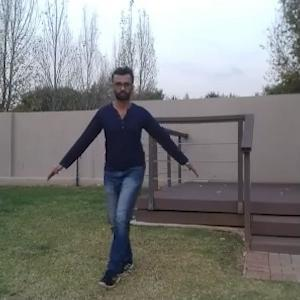land: (64, 66, 186, 276)
